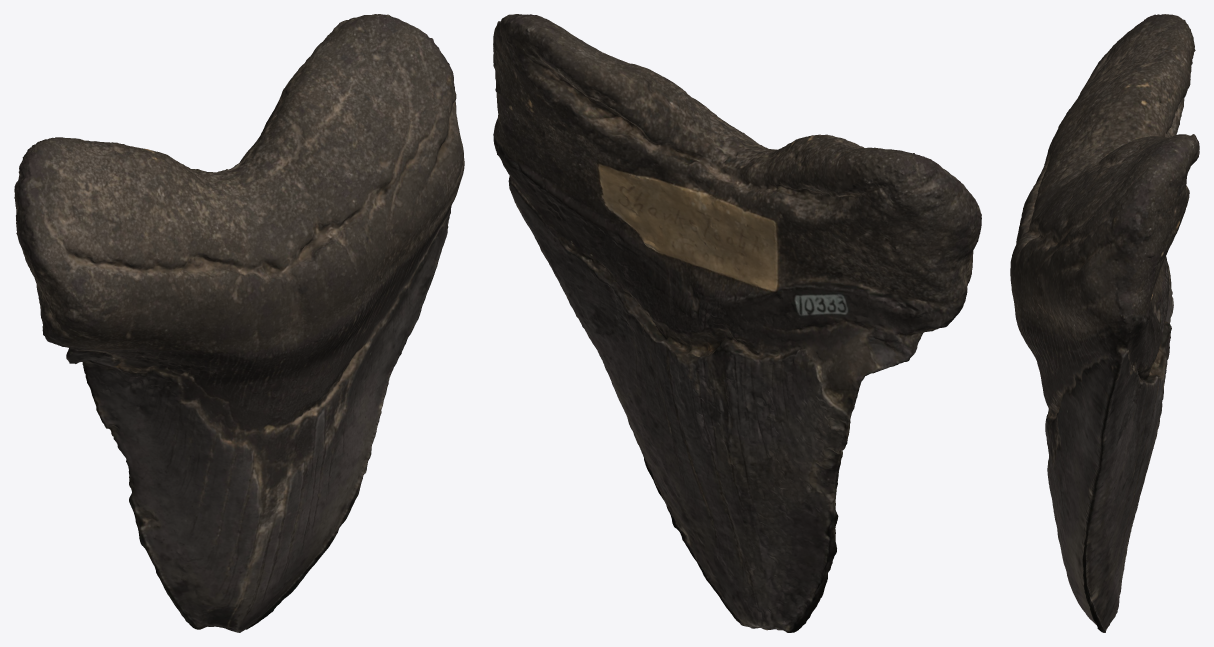
3 views of the same model, side by side, from view 1: azimuth 30°, elevation 25°; view 2: azimuth 150°, elevation 25°; view 3: azimuth 270°, elevation 25° (orthographic). The views are drawn at different scales.
Parts seen in each view (by area): view 1: specimen; view 2: specimen; view 3: specimen.
Part boxes in pixels (left/top/right/bottom): specimen: left=14, top=14, right=464, bottom=632; specimen: left=493, top=14, right=981, bottom=632; specimen: left=1010, top=14, right=1199, bottom=632.
Bounding box in the file's own units: 0.1222 × 0.1452 × 0.0434.
Materials: 1 (1 with a texture image).
